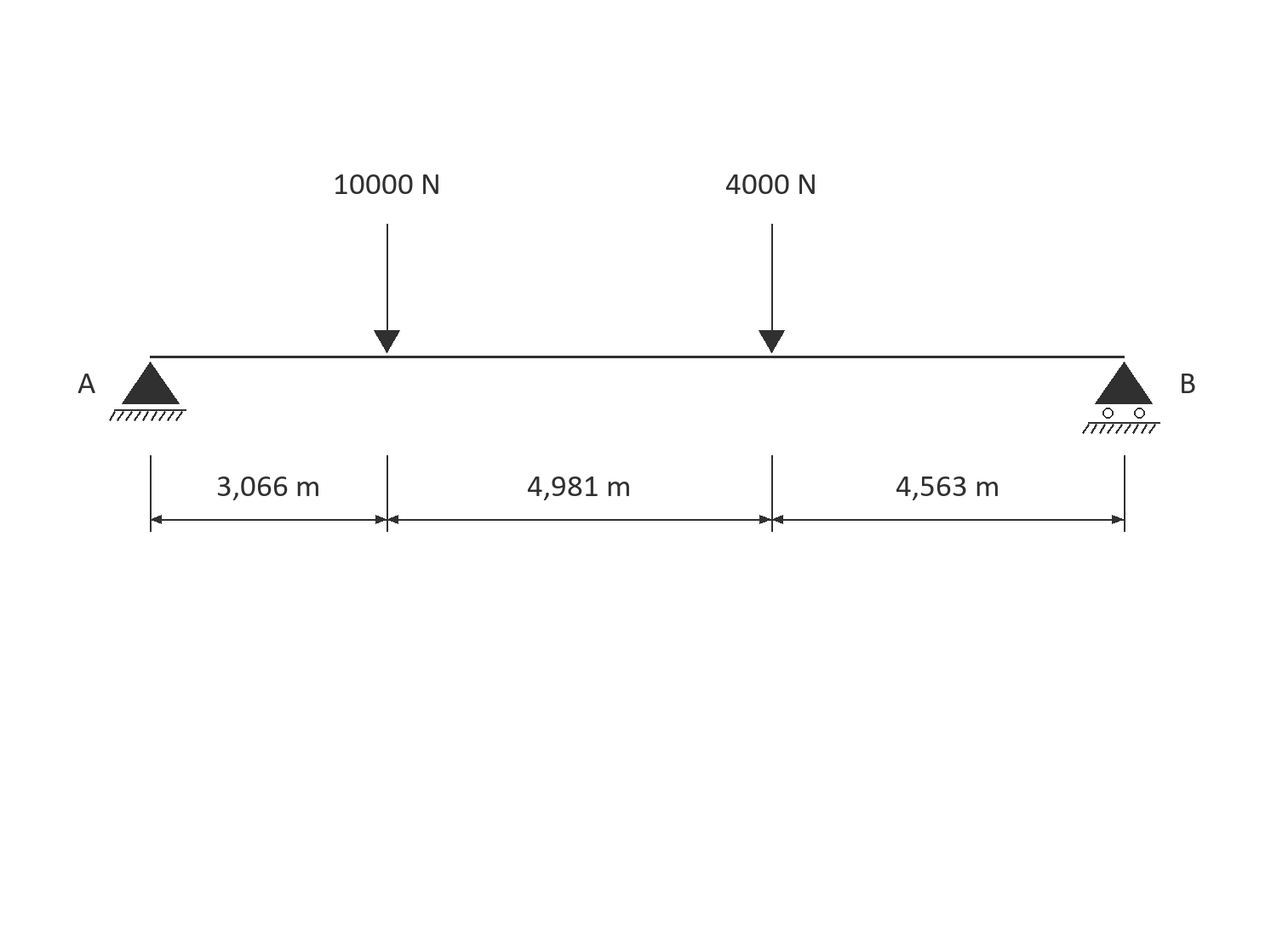pin_support: (109, 362, 186, 421)
point_load: (374, 224, 400, 353), (759, 224, 785, 353)
roller_support: (1082, 362, 1160, 434)
